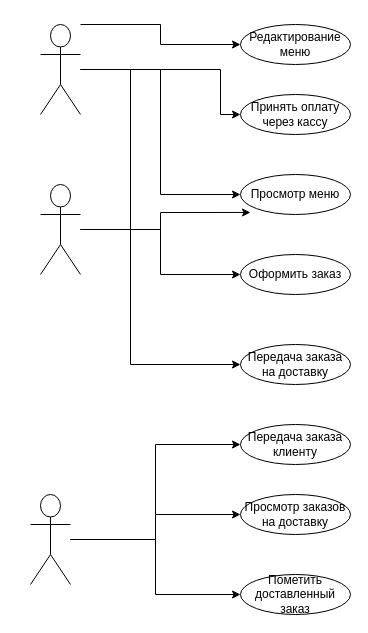
This 368x633 diagram has some shape labels left out. The box of each missing label's shape, as (x1, y1, x2, y2) in pixels:
Администратор: (40, 24, 80, 114)
Клиент: (40, 184, 80, 274)
Курьер: (30, 494, 70, 584)
